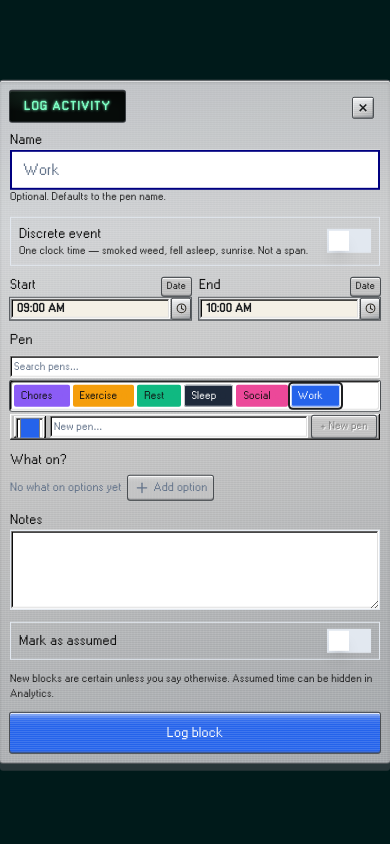
Test: LogActivityDialog right now › stamps the discrete-event time to right now
Click the switch named "Discrete event" in the row of "Discrete event". click: (349,241)
box: [327,229,371,253]
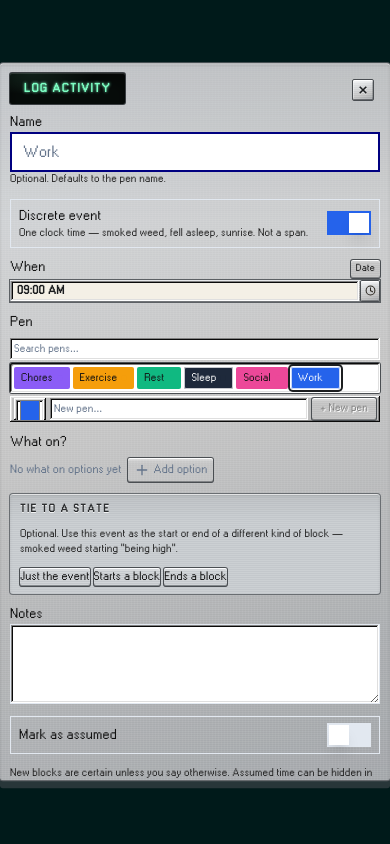
Click the button named "Open clock". click: (370,291)
box: [361,281,379,301]
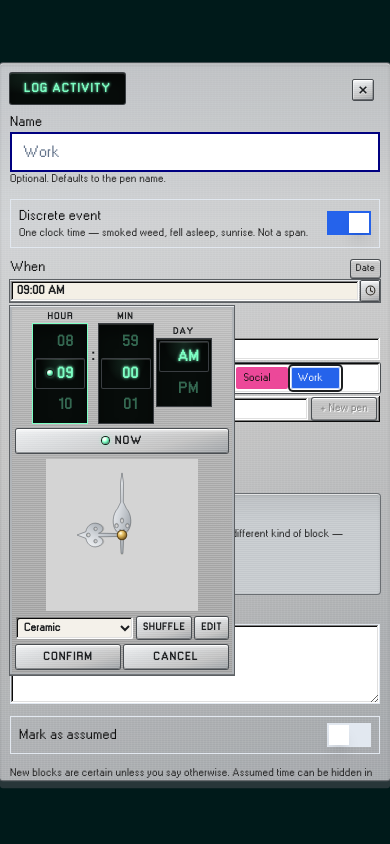
Click the button "Now". click: (122,441)
box: [16,429,228,453]
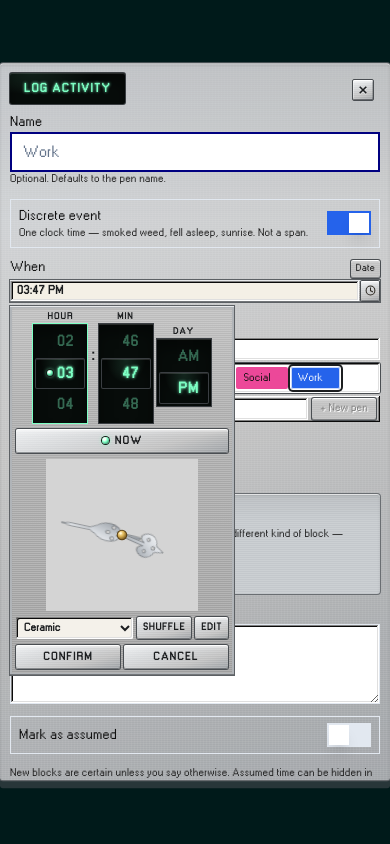
Result: the dropdown labelled "When" holds "15:47" at [11,281,359,301]
